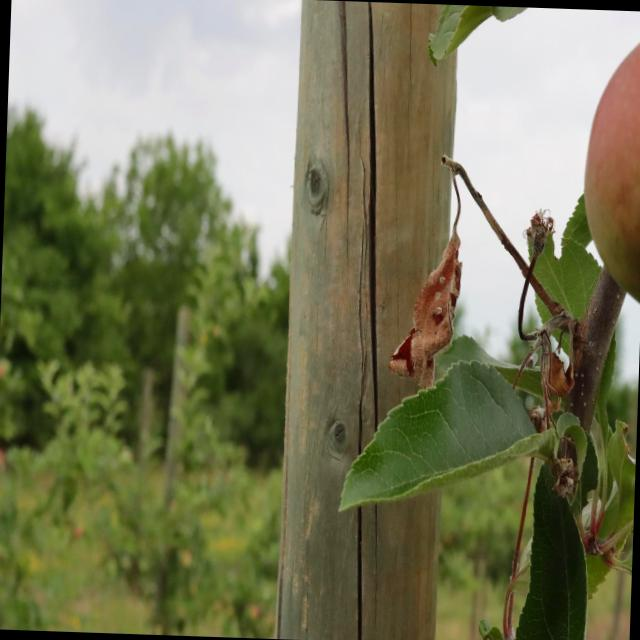-FireBlight-: (402, 134, 478, 384), (505, 251, 582, 438)
